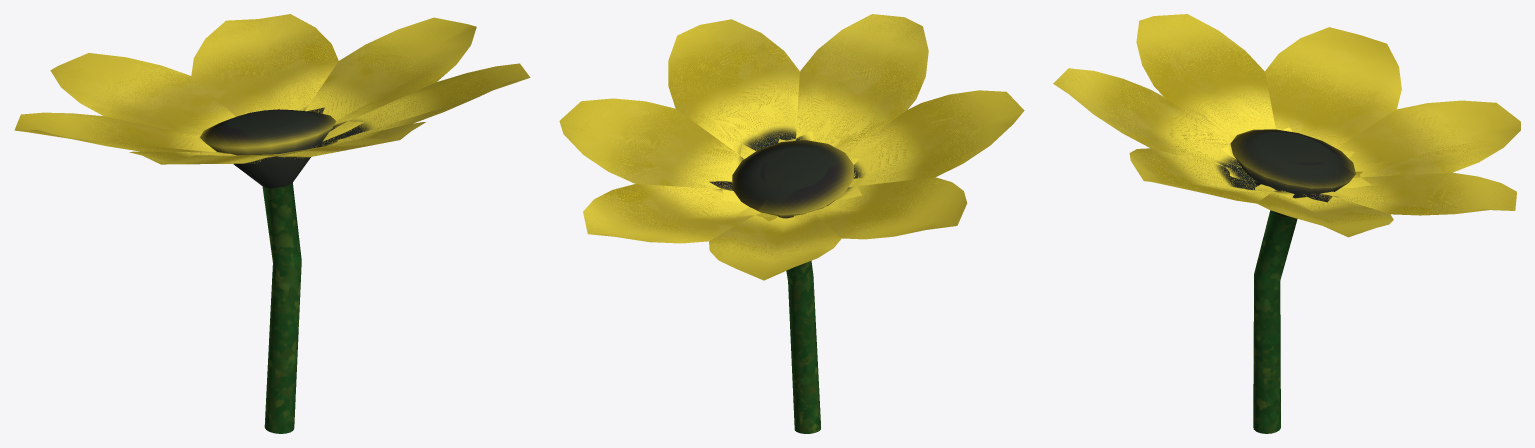
Rendered from Sm_Flowers2.fbx.
The picture shows the model from 3 angles, left to right: view 1: azimuth 30°, elevation 25°; view 2: azimuth 150°, elevation 25°; view 3: azimuth 270°, elevation 25°; orthographic projection. The views are drawn at different scales.
Parts seen in each view (by area): view 1: Sm_Flowers2; view 2: Sm_Flowers2; view 3: Sm_Flowers2.
Boxes of the visible parts, <box> form: Sm_Flowers2: <box>14,14,530,433</box>; Sm_Flowers2: <box>559,14,1024,433</box>; Sm_Flowers2: <box>1053,14,1520,433</box>.
Size of the model in its own units: 28.29 by 22.59 by 27.36.
